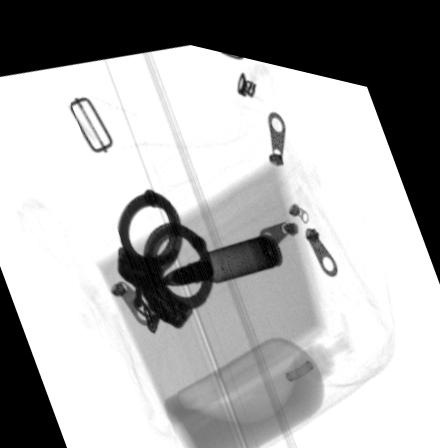Bullet: (158, 219, 281, 278)
HandCuffs: (113, 178, 215, 329)
